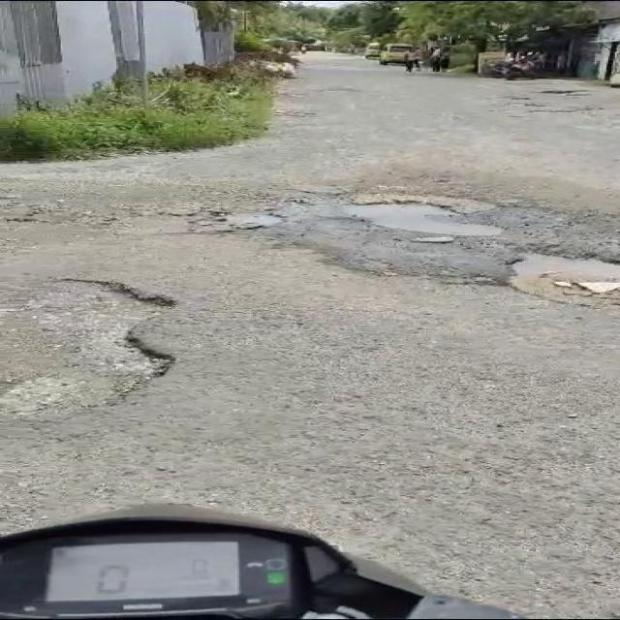lubang: (317, 169, 573, 266), (0, 280, 169, 417), (0, 182, 295, 233), (509, 255, 619, 300)
